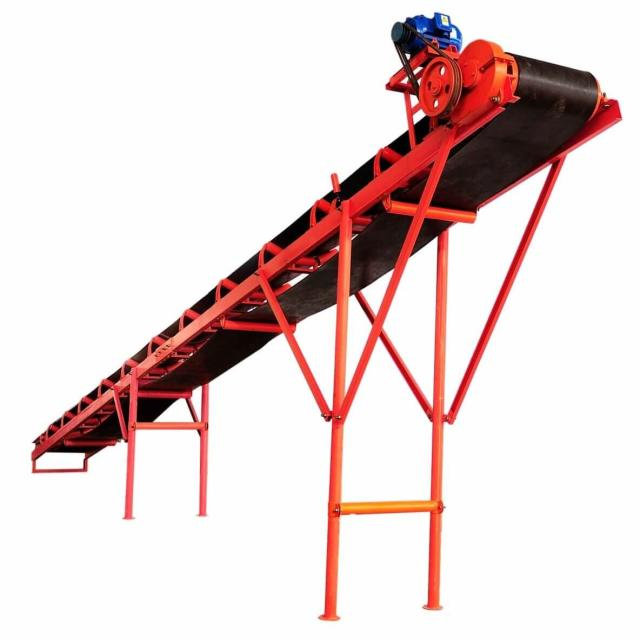conveyor: (24, 9, 624, 628)
